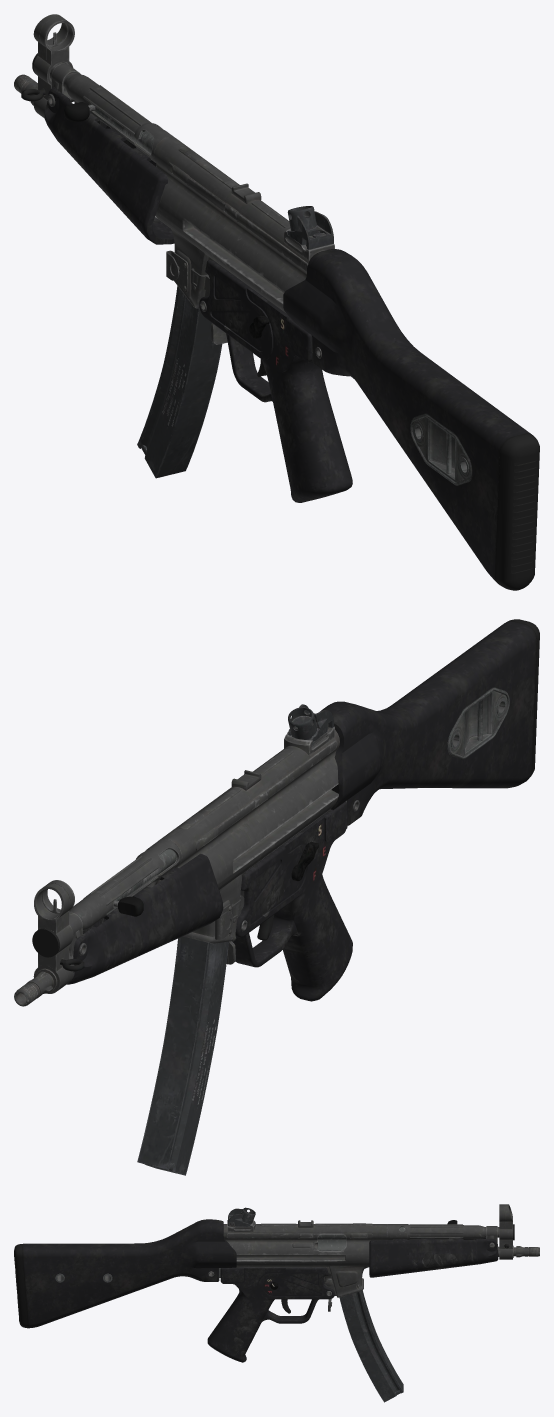
3 views of the same model, one above another, from view 1: azimuth 30°, elevation 25°; view 2: azimuth 150°, elevation 25°; view 3: azimuth 270°, elevation 25° (orthographic). The views are drawn at different scales.
Parts seen in each view (by area): view 1: Buttstock, HandGuard, Reciever, Body, Attachements; view 2: Buttstock, HandGuard, Reciever, Body, Attachements; view 3: Buttstock, HandGuard, Body, Reciever, Attachements.
Part boxes in pixels (box(x1,y1,x2,y2)): Buttstock: box(283, 249, 539, 590); HandGuard: box(44, 87, 352, 502); Reciever: box(33, 14, 222, 478); Body: box(153, 137, 334, 313); Attachements: box(14, 53, 472, 485); Buttstock: box(320, 619, 539, 825); HandGuard: box(67, 801, 352, 1001); Reciever: box(33, 839, 228, 1175); Body: box(158, 721, 339, 943); Attachements: box(14, 687, 509, 1006); Buttstock: box(14, 1219, 236, 1328); HandGuard: box(207, 1237, 498, 1362); Body: box(223, 1217, 387, 1297); Reciever: box(339, 1204, 512, 1402); Attachements: box(55, 1207, 539, 1313).
Size of the model in its own units: 0.0811 by 0.3658 by 0.901.
Materials: 5 (5 with a texture image).
